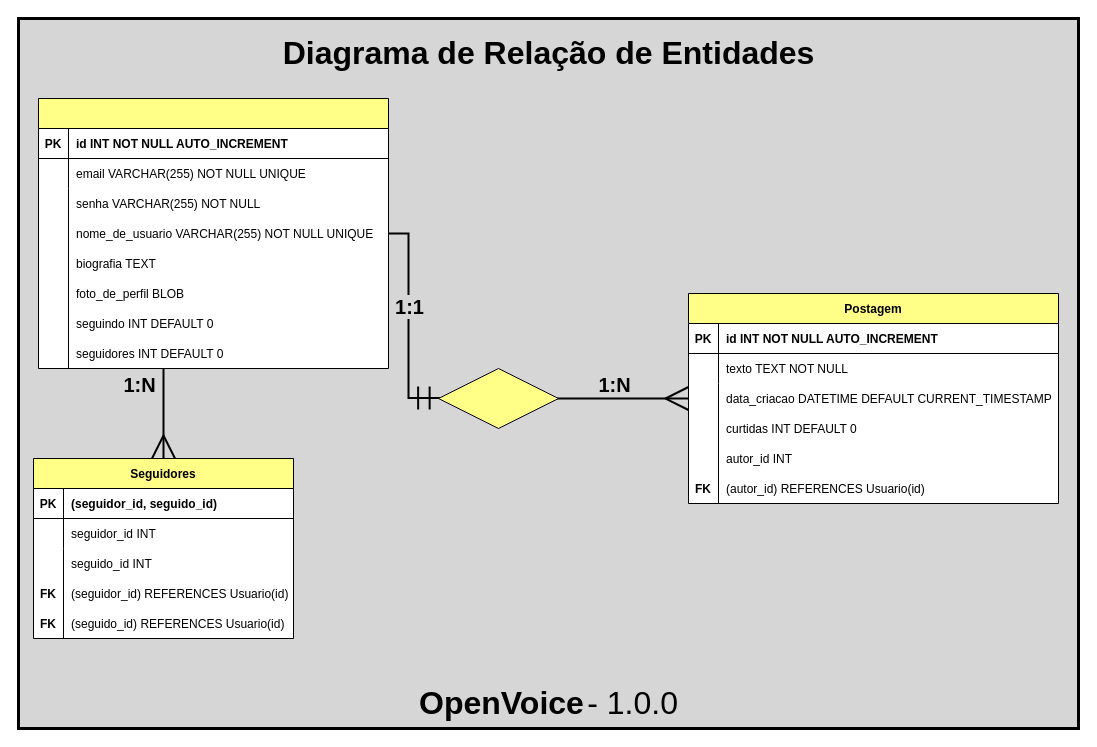
Image size: 1097x747. Some labels were removed from this diagram. Each missing label, with the box of its shape:
Homepage: (438, 368, 558, 428)
Usuário: (38, 98, 388, 368)
